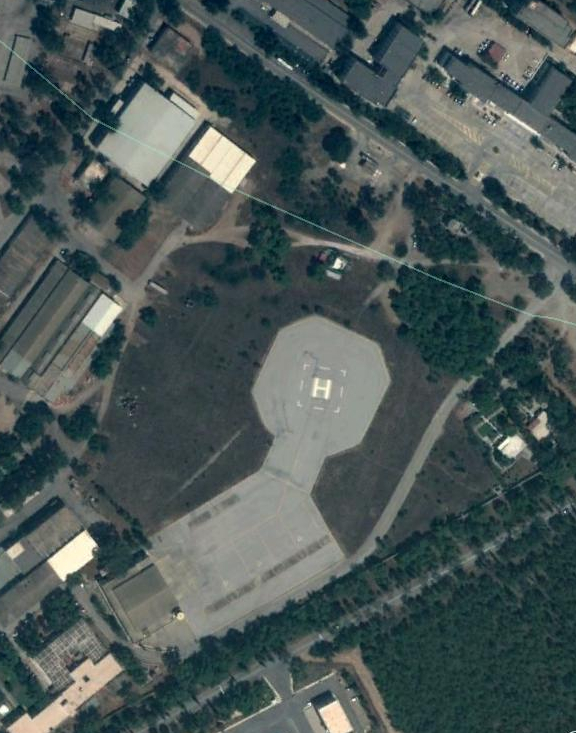heliport: (309, 373, 334, 403)
